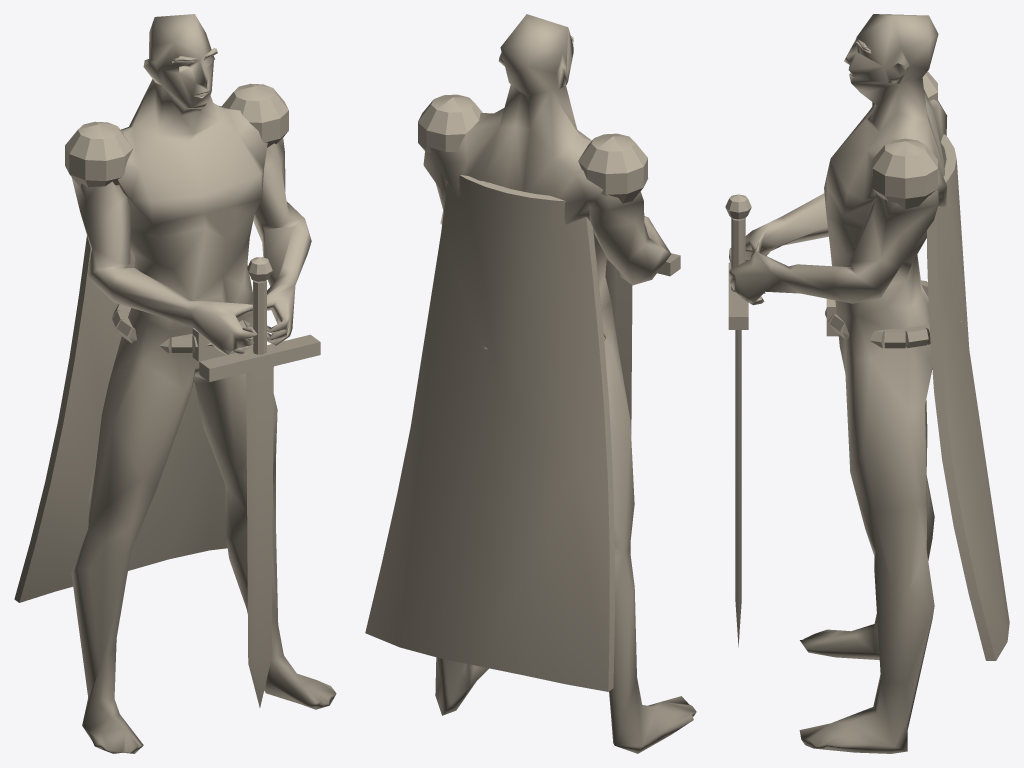
File: hero_w1.glb
The picture shows the model from 3 angles, left to right: view 1: azimuth 30°, elevation 25°; view 2: azimuth 150°, elevation 25°; view 3: azimuth 270°, elevation 25°; orthographic projection. The views are drawn at different scales.
Visible parts, largest first — view 1: HERO_W12; view 2: HERO_W12; view 3: HERO_W12.
Part boxes in pixels (box(x1,y1,x2,y2)): HERO_W12: box(14, 14, 336, 753); HERO_W12: box(365, 14, 696, 753); HERO_W12: box(725, 14, 1009, 753).
Size of the model in its own units: 1.18 by 3.3 by 1.22.
